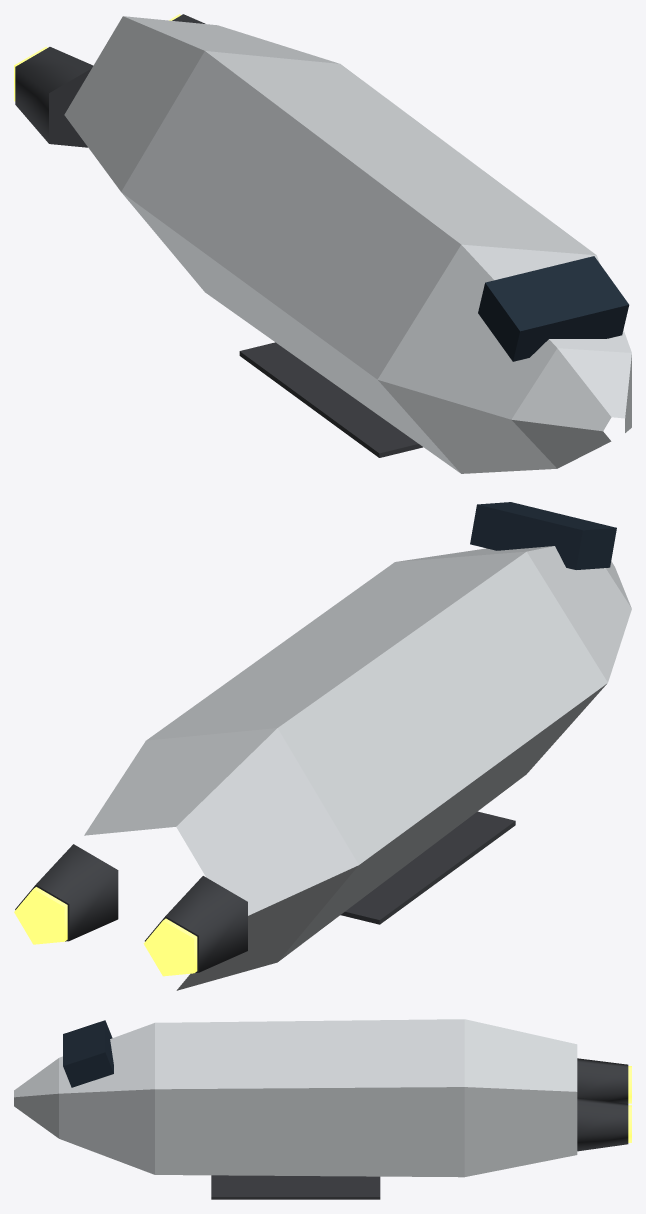
File: space_ship_transport_mk1_lod1.glb
3 renders of one model, top to bottom at view 1: azimuth 30°, elevation 25°; view 2: azimuth 150°, elevation 25°; view 3: azimuth 270°, elevation 25°, orthographic. The views are drawn at different scales.
Visible parts, largest first — view 1: body, hangar_door, engine_1; view 2: body, engine_0, engine_1, hangar_door; view 3: body, hangar_door, engine_0, engine_1.
Boxes of the visible parts, x1,y1,x2,y2 form: body: (64,16,631,473); hangar_door: (239,342,422,457); engine_1: (14,46,93,147); body: (84,502,631,990); engine_0: (14,844,118,944); engine_1: (143,876,247,976); hangar_door: (340,811,515,924); body: (14,1019,577,1177); hangar_door: (211,1175,380,1199); engine_0: (577,1097,631,1151); engine_1: (577,1058,631,1103).
Size of the model in its own units: 5.11 by 5.22 by 19.74.
